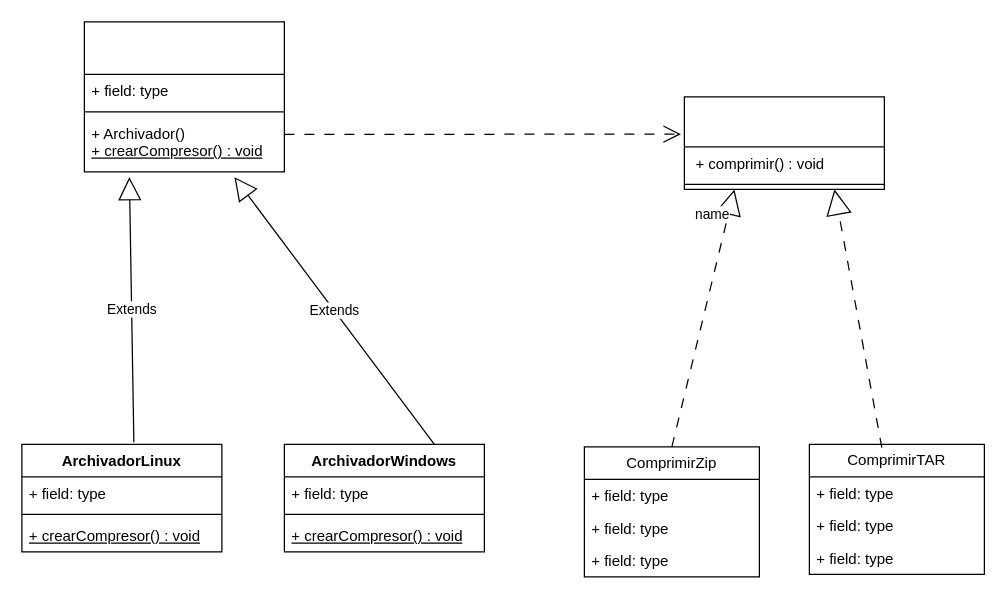
This 1006x603 diagram has some shape labels left out. Here are the shapes that lost their labels. From the top down, the box of each, then its label:
(83, 21, 284, 172): <Abstract> Archivador
(683, 96, 884, 189): <Interfaz> Compresor
